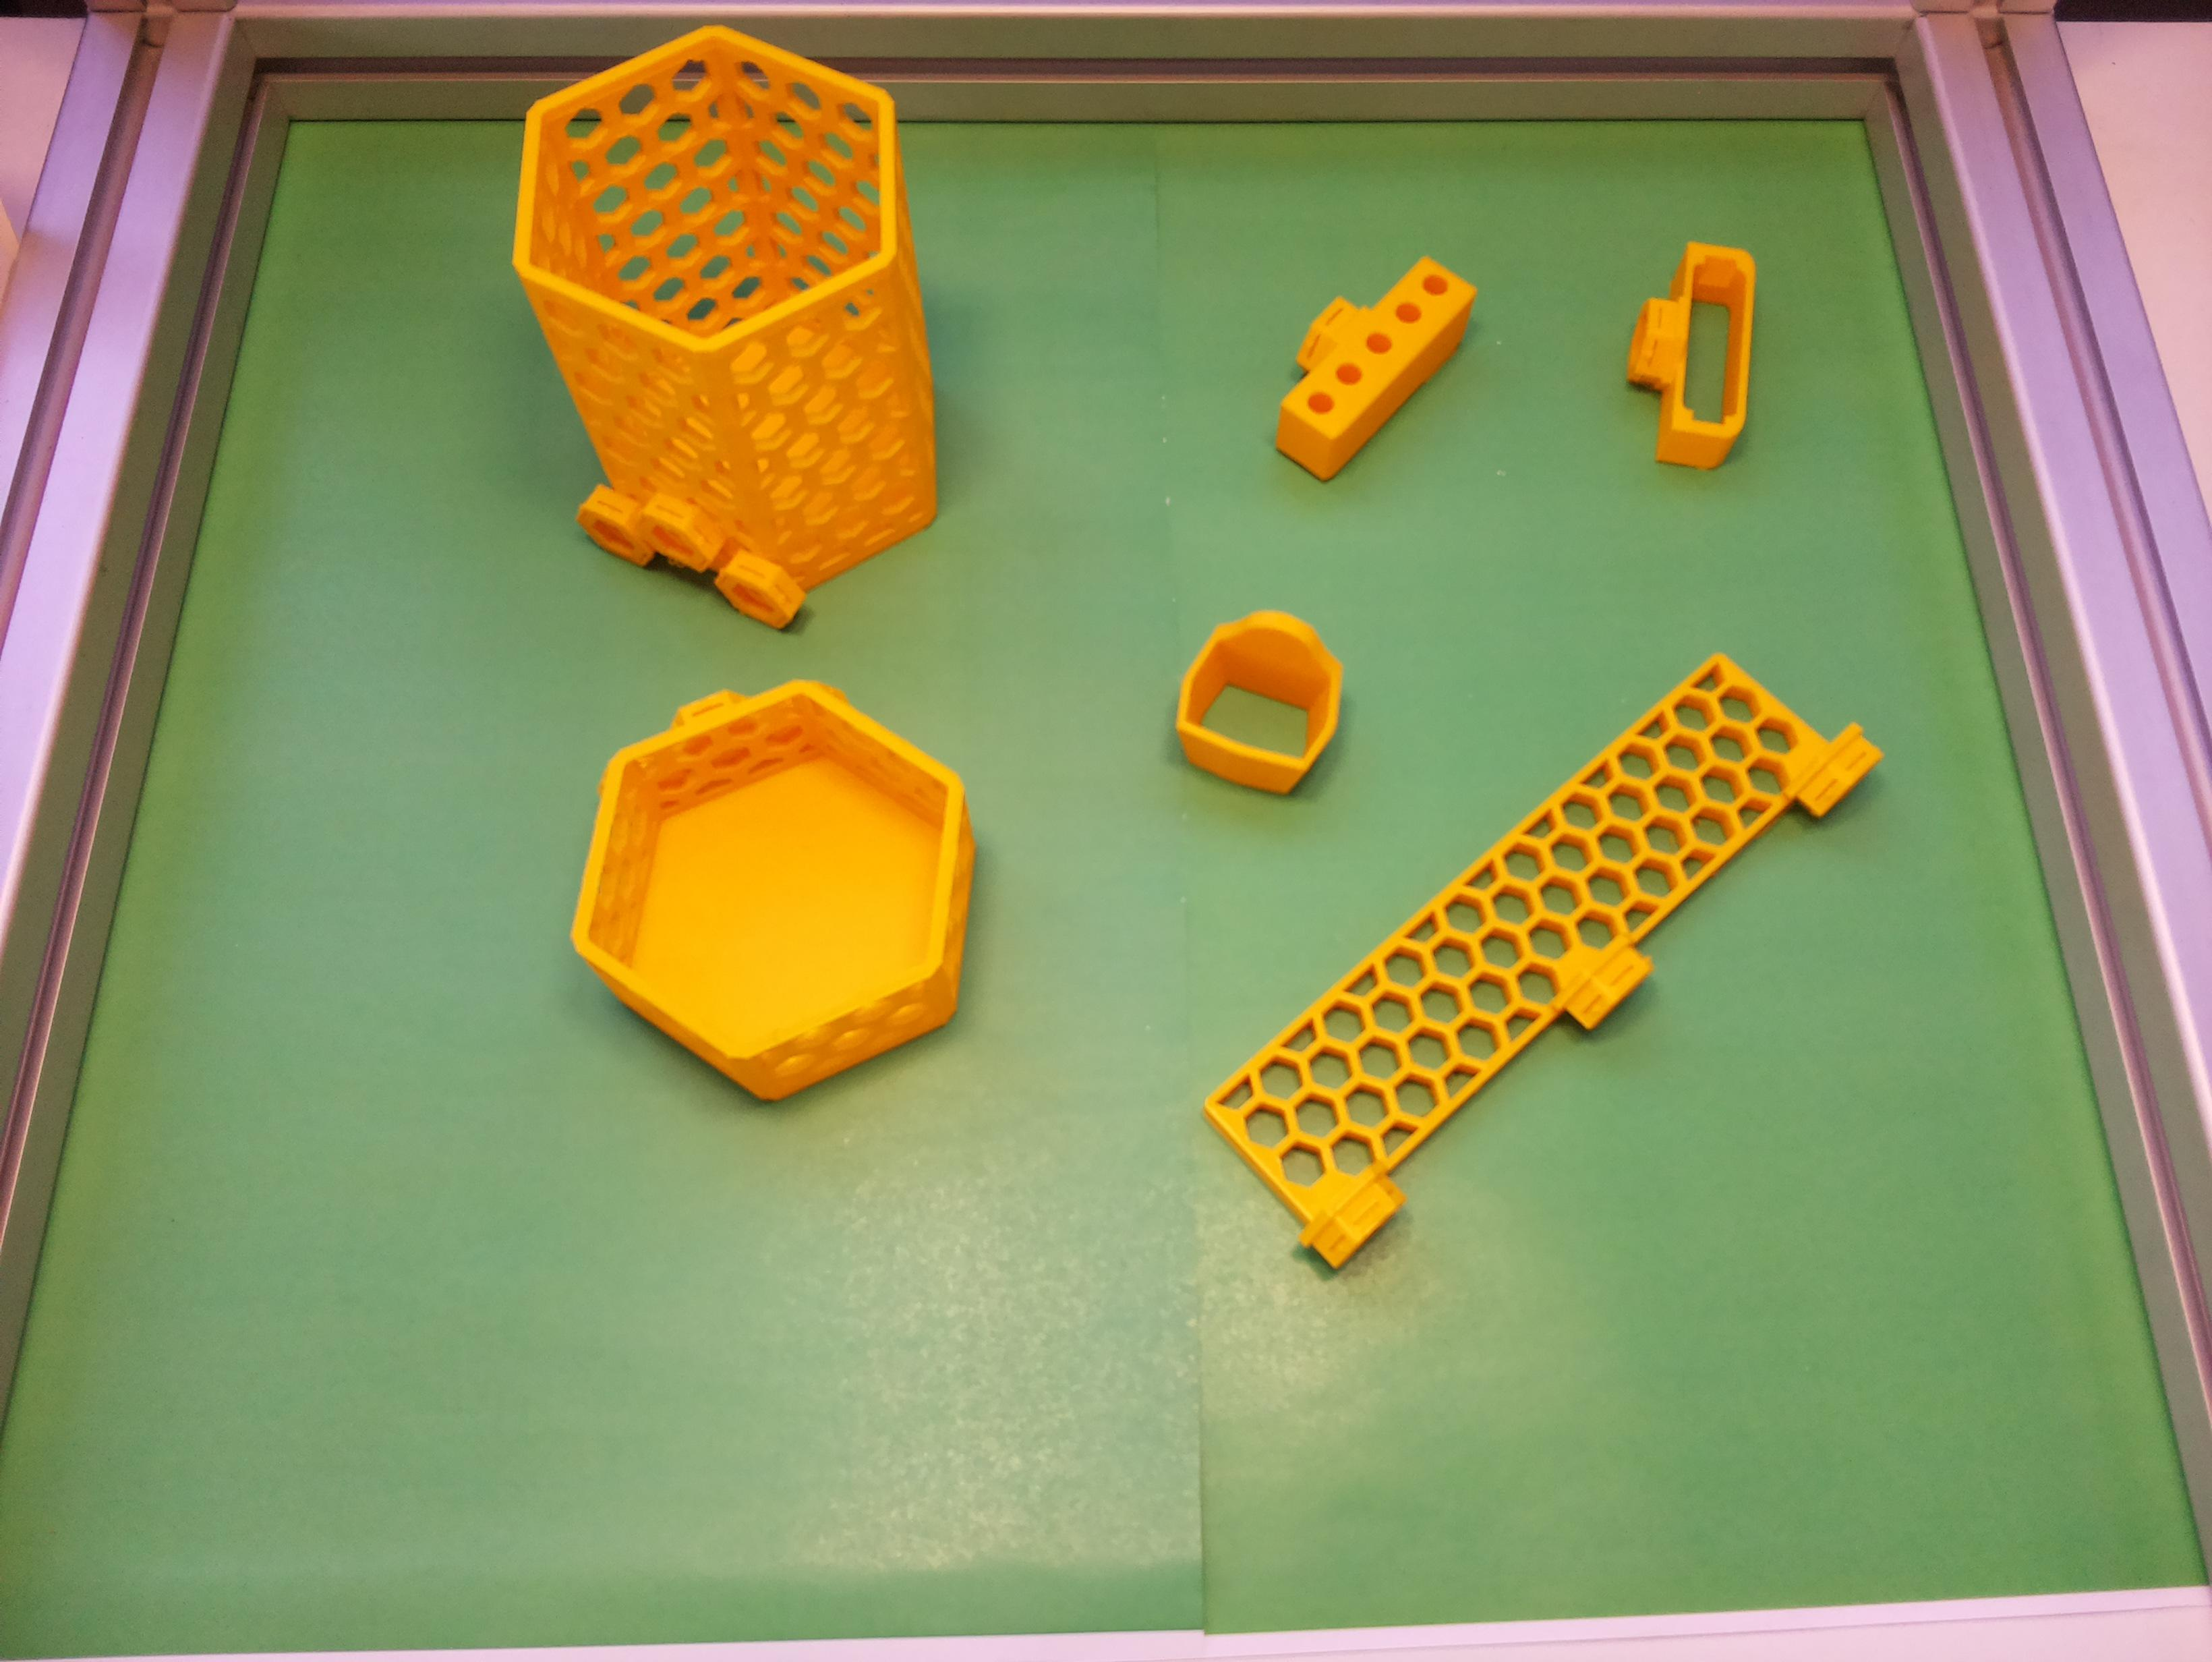bit_holder: (1233, 223, 1496, 489)
bottle_holder: (501, 606, 1068, 1163)
cup_holder: (485, 3, 962, 656)
cutter_holder: (1622, 239, 1756, 471)
scissor_holder: (1145, 583, 1376, 819)
tool_holder: (1184, 599, 1889, 1276)
